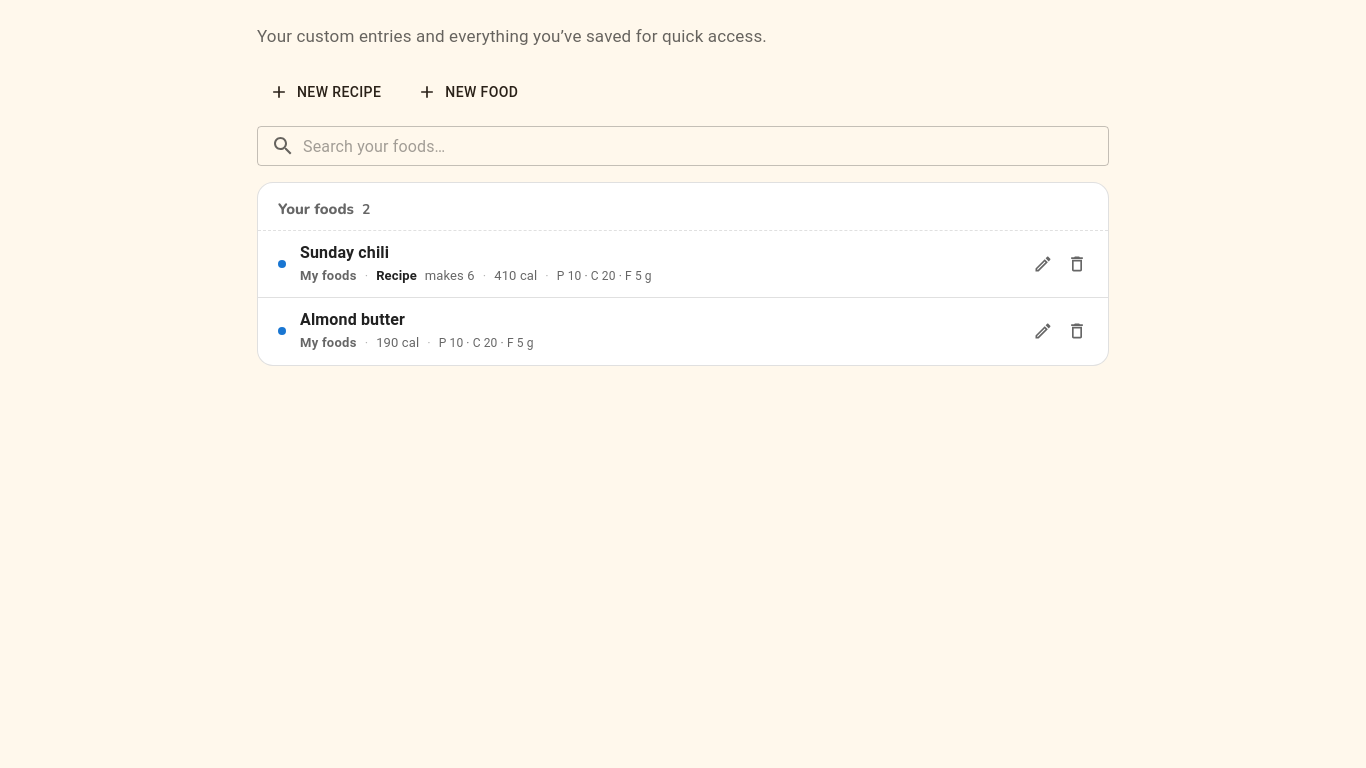
Test: My Foods recipes › New food opens the custom-food form
This screenshot has width=1366, height=768.
Click the button "New food": (470, 92) [405, 74, 534, 110]
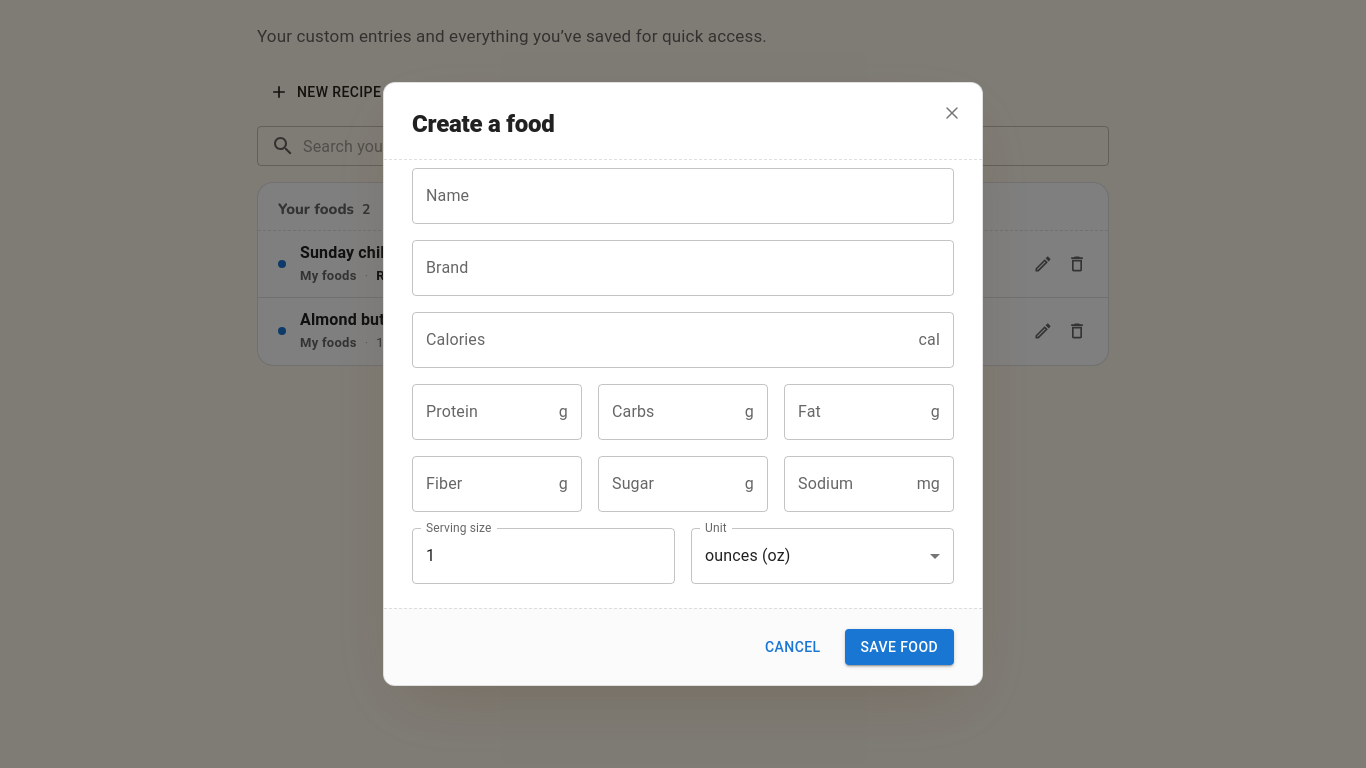
Now the heading "Create a food" is shown, box [412, 111, 554, 139]
